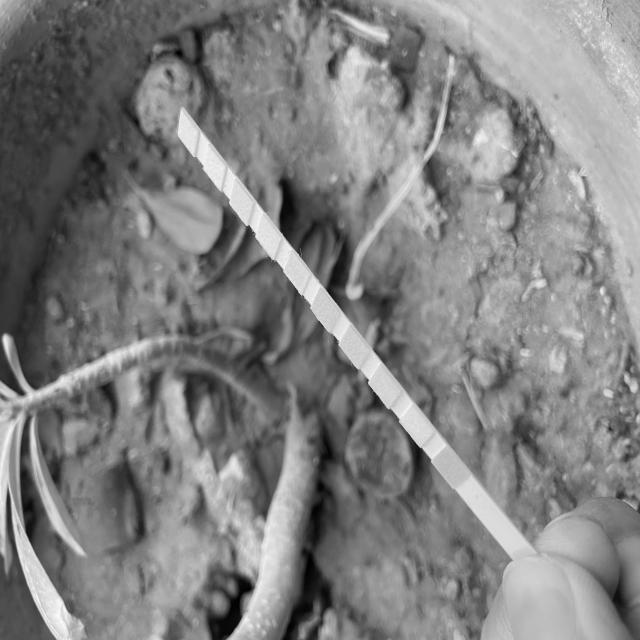Bilirubin: (409, 415, 423, 434)
Blood: (319, 300, 330, 321)
Glucose: (442, 457, 458, 476)
Ketone: (378, 379, 391, 396)
Leukocytes: (180, 123, 195, 139)
Nitrite: (208, 158, 219, 176)
Protein: (262, 227, 272, 247)
SpGravity: (347, 338, 360, 357)
Urobilinogen: (235, 191, 246, 212)
background: (0, 0, 640, 640)
pH: (291, 261, 301, 281)
strip: (177, 105, 527, 558)
